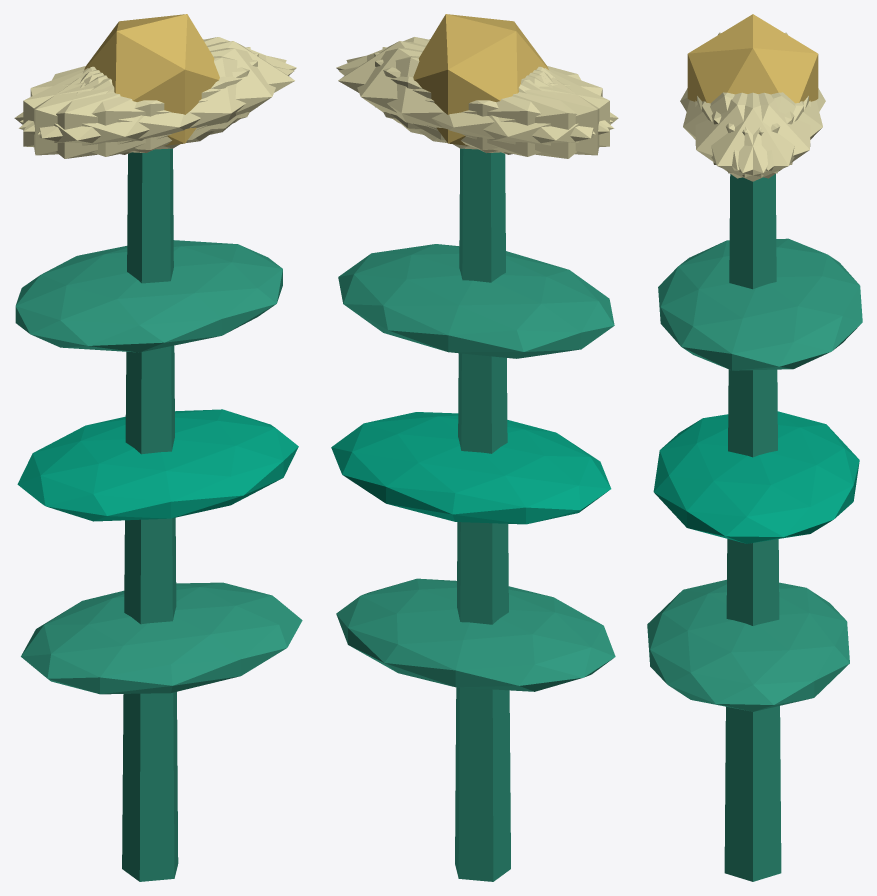
The model's file is xiphidium-caeruleum.glb.
The picture shows the model from 3 angles, left to right: view 1: azimuth 30°, elevation 25°; view 2: azimuth 150°, elevation 25°; view 3: azimuth 270°, elevation 25°; orthographic projection.
Visible parts, largest first — view 1: stem, leaf0, leaf1, leaf2, center, petal1, petal6, petal2, petal5, petal7, petal0, petal4 (+2 smaller); view 2: stem, leaf2, leaf1, leaf0, center, petal8, petal3, petal7, petal4, petal2, petal0, petal5 (+2 smaller); view 3: stem, leaf1, leaf2, leaf0, center, petal0, petal4, petal5, petal1, petal8.
Part boxes in pixels (x1,y1,x2,y2): stem: (122,148,178,881); leaf0: (21,582,302,694); leaf1: (17,409,298,521); leaf2: (15,240,282,352); center: (84,14,219,145); petal1: (19,56,294,156); petal6: (14,68,213,158); petal2: (34,47,250,155); petal5: (37,48,286,149); petal7: (23,53,258,152); petal0: (84,41,294,140); petal4: (20,37,296,131); stem: (455,148,510,881); leaf2: (338,244,614,358); leaf1: (331,412,611,524); leaf0: (336,578,615,691); center: (413,14,548,145); petal8: (339,56,614,156); petal3: (419,68,618,158); petal7: (382,47,599,155); petal4: (346,48,595,149); petal2: (374,53,609,152); petal0: (338,41,549,140); petal5: (336,37,612,131); stem: (724,174,781,881); leaf1: (653,411,859,543); leaf2: (658,238,862,370); leaf0: (647,579,849,711); center: (687,14,818,103); petal0: (697,92,808,181); petal4: (702,92,810,178); petal5: (695,92,803,178); petal1: (683,92,794,170); petal8: (711,92,822,170).
Bounding box in the file's own units: 0.1452 × 0.4338 × 0.1011.
